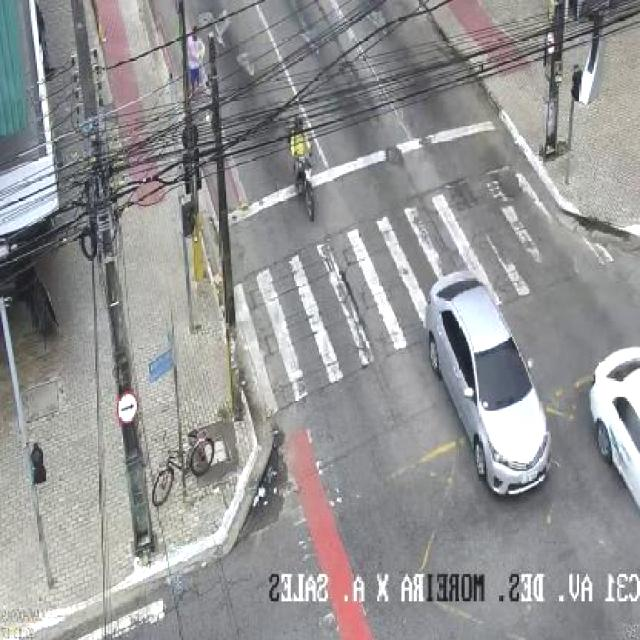Car: (423, 270, 552, 498), (588, 343, 640, 513)
Cycle: (150, 428, 215, 508), (293, 152, 318, 223)
